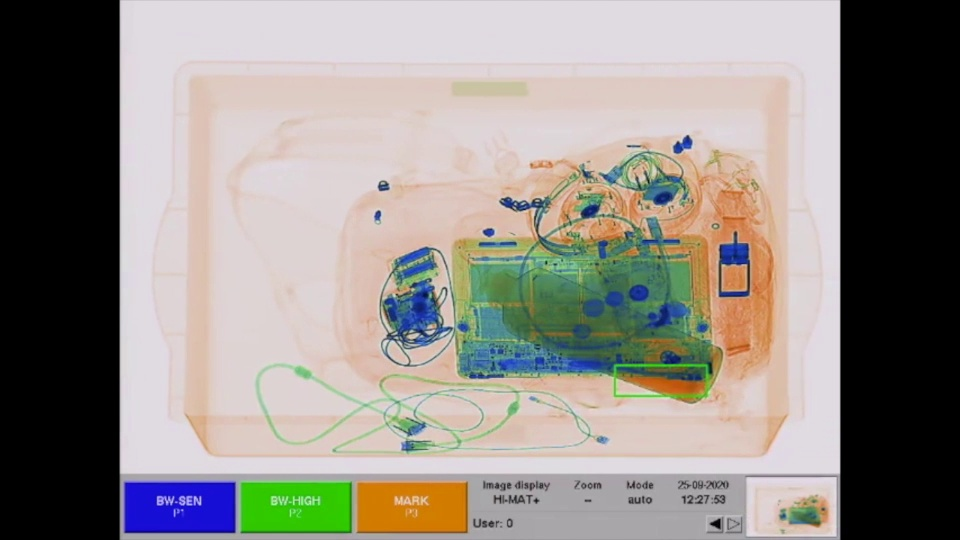tray_img: (148, 50, 829, 464)
